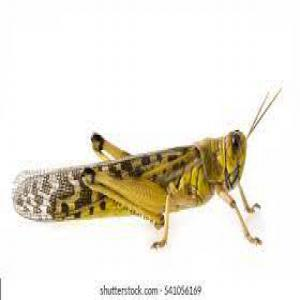locust: (6, 98, 282, 234)
